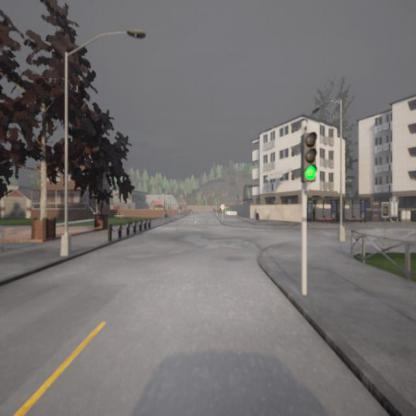traffic_light_green: (301, 133, 318, 183)
